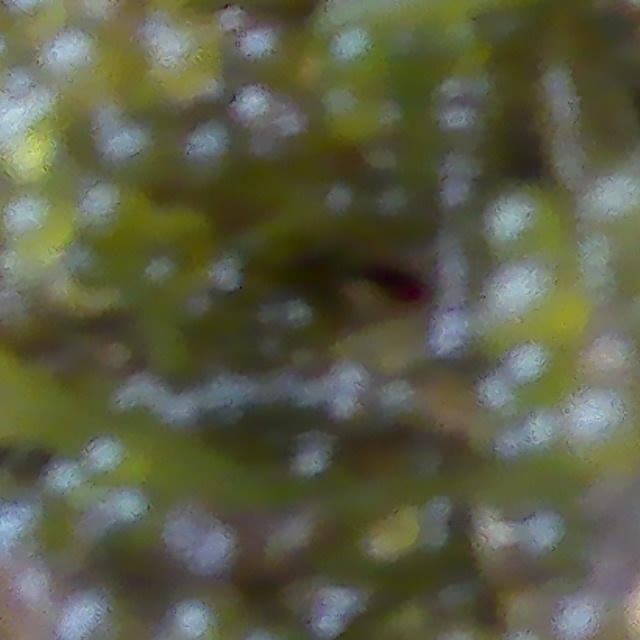SeaGrape: (473, 261, 587, 348), (568, 390, 640, 467), (148, 28, 229, 95), (485, 190, 555, 263), (235, 27, 301, 90), (52, 39, 117, 101), (87, 169, 141, 239), (590, 167, 640, 237)
